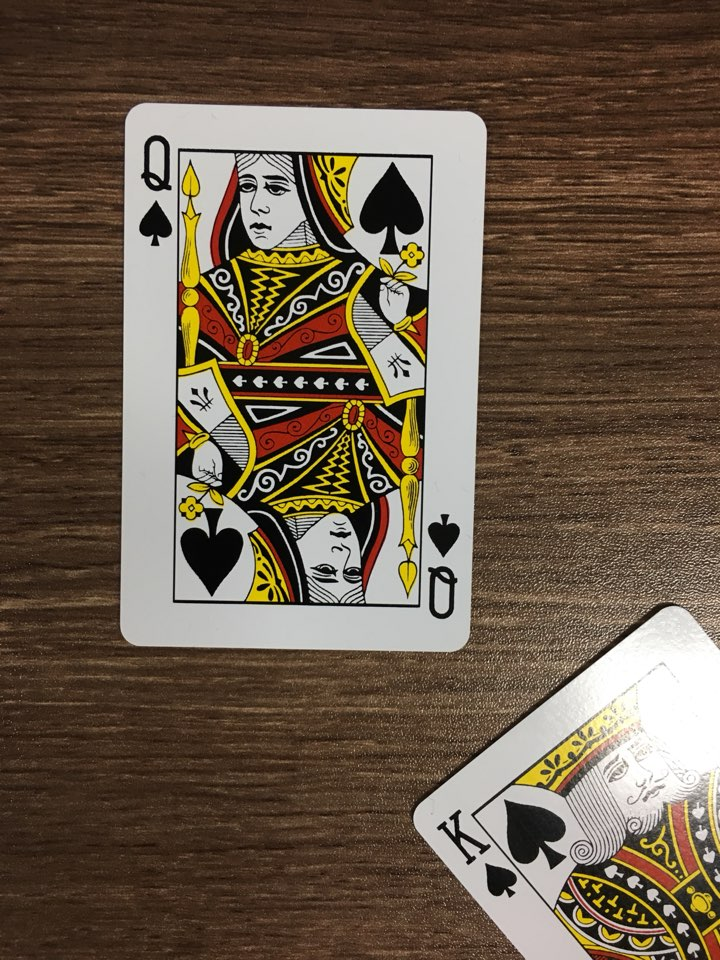king: (384, 567, 720, 957)
queen: (73, 59, 548, 691)
